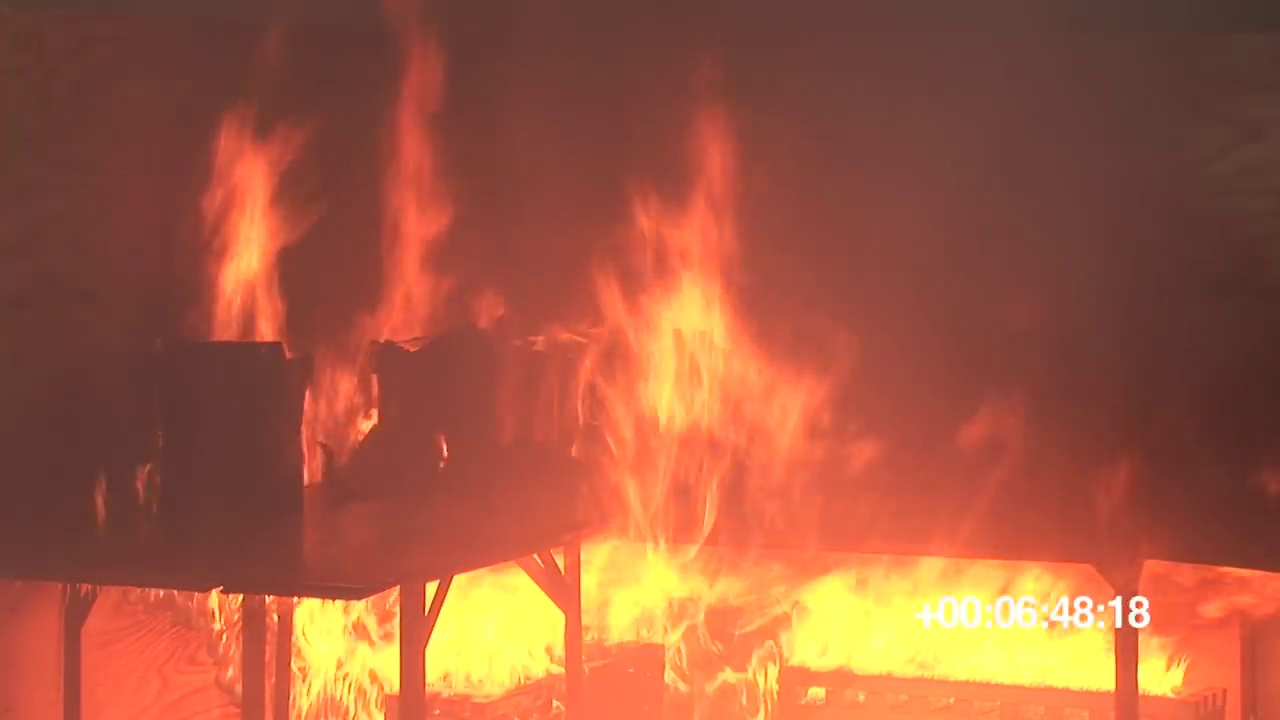fire: (267, 559, 1194, 717), (586, 169, 817, 667), (377, 82, 447, 333), (213, 144, 285, 342), (311, 355, 364, 450)
